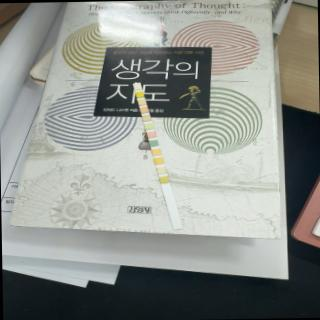mark: (157, 166, 165, 174), (140, 106, 148, 114), (160, 175, 169, 182), (148, 140, 158, 146), (137, 99, 146, 105), (154, 158, 162, 164), (152, 148, 160, 154), (147, 131, 155, 137), (144, 122, 152, 128), (142, 114, 150, 120), (133, 83, 141, 89), (136, 92, 144, 97)
